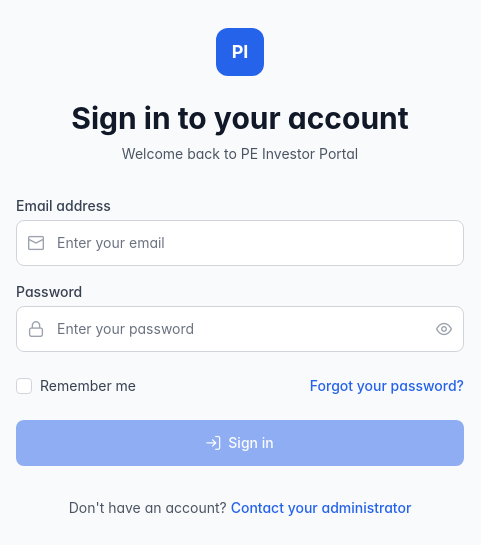
Test: LoginView › Form Validation › should show password too short error
Note: Set short password
In the password field labelled "Password": [240, 329] box [16,306,464,352], type "12345"
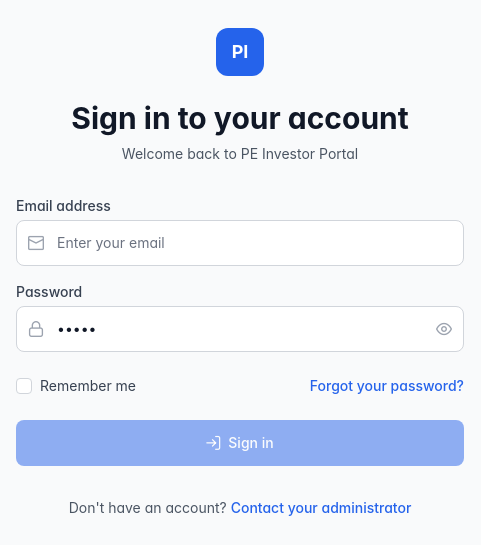
Leave the password field labelled "Password", box [16,306,464,352]
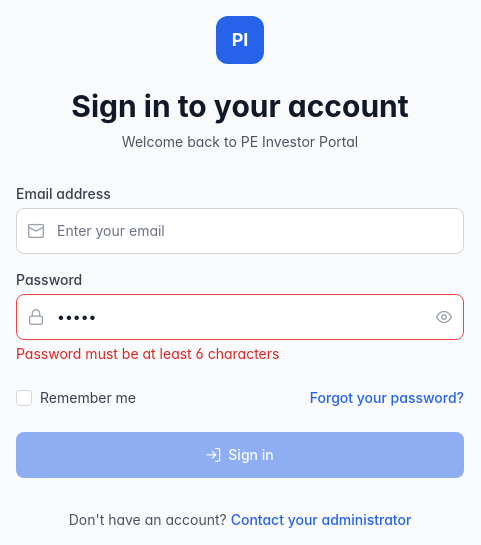
Expected: the text "Password must be at least 6 characters" is shown, [16,345,279,362]
